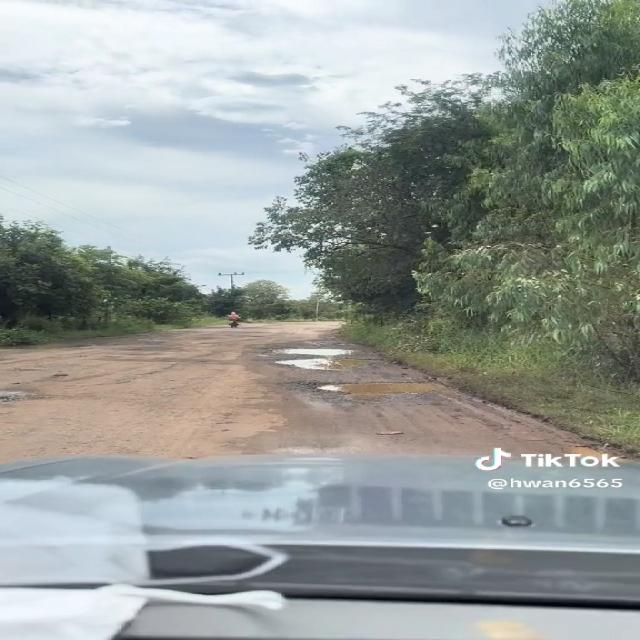Poth-hole: (103, 356, 237, 403)
